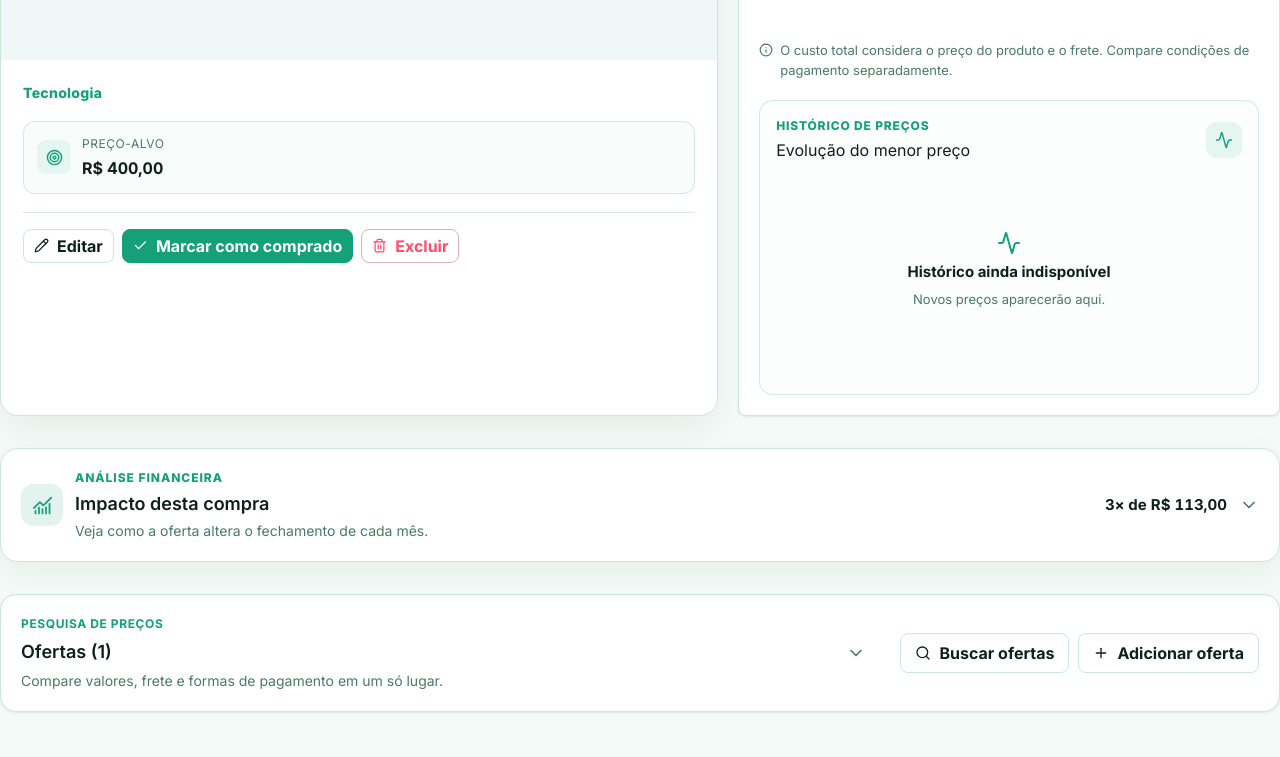
shows expired offers without using them to reach the target price
The image size is (1280, 757).
(page scrolled)
Check: the heading "Ofertas (1)" is shown, box [21,641,112,662]
What coordinates should you click on to do the following:
click the button with aria-label "Ver ofertas (1)"
I would click on:
 (92, 624)
Its box is [1,595,886,711].
(page scrolled)
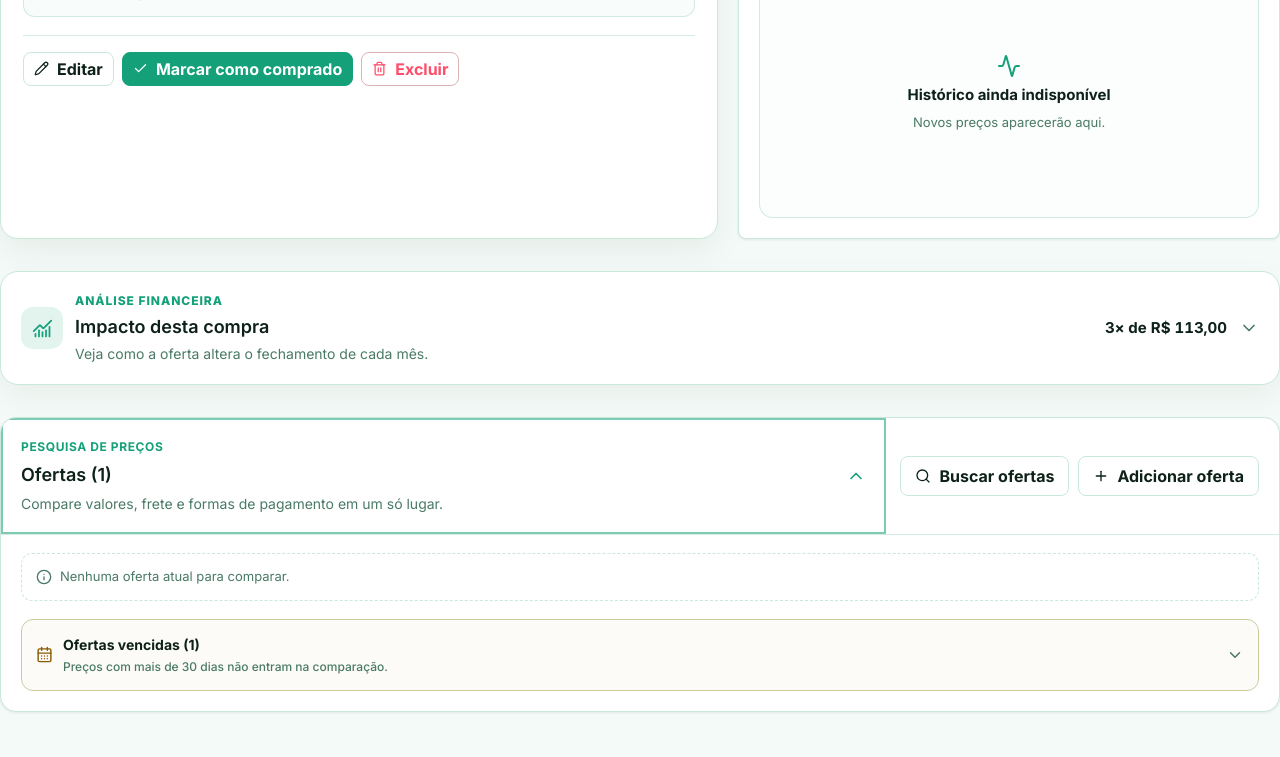
What coordinates should you click on to do the following:
click the button "Ofertas vencidas (1)"
I would click on:
 (126, 644)
Its box is [22,620,1258,690].
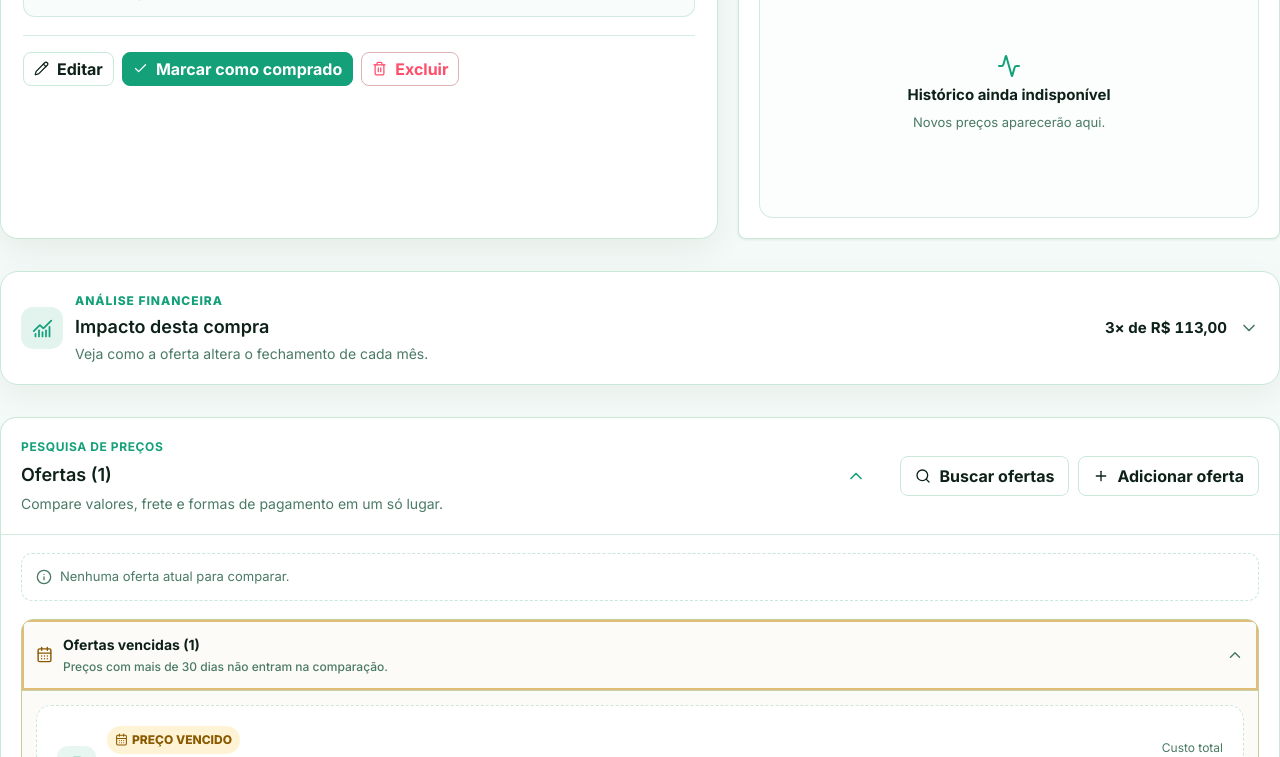
Check: the button "Ofertas vencidas (1)" is expanded, box [22,620,1258,690]
Check: the text "PREÇO VENCIDO" is shown, box [107,726,240,754]
